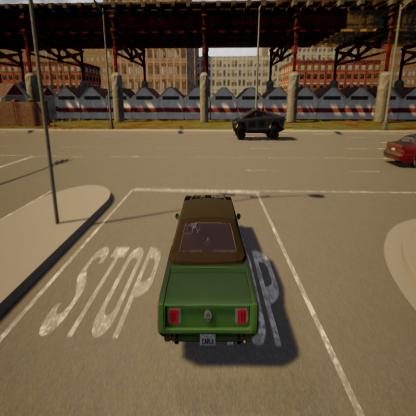Cars: (159, 191, 259, 350), (233, 102, 287, 142), (383, 134, 416, 169)
